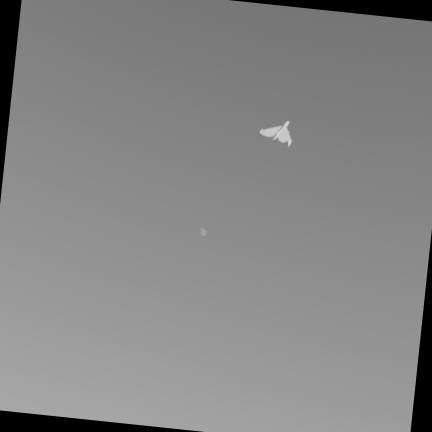Shahed: (260, 122, 292, 146)
